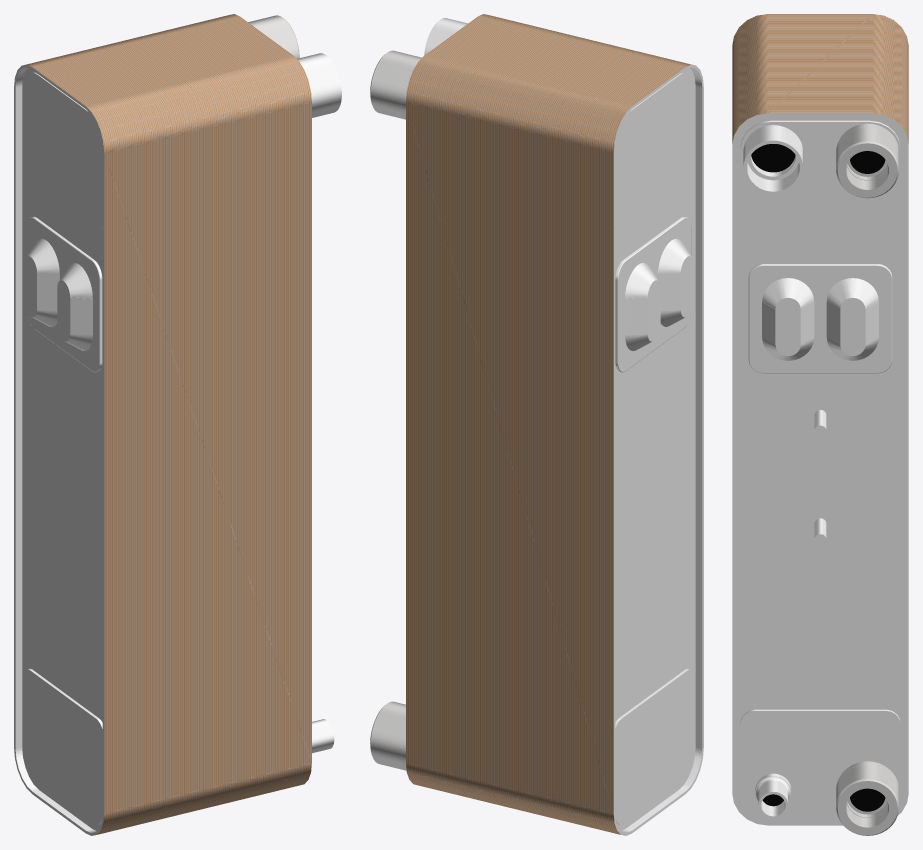
Rendered from MPHE Heat Exchanger.glb.
3 renders of one model, left to right at view 1: azimuth 30°, elevation 25°; view 2: azimuth 150°, elevation 25°; view 3: azimuth 270°, elevation 25°, orthographic. The views are drawn at different scales.
Visible parts, largest first — view 1: Solid1.006, Solid1.005, Solid1.001, Solid1.002, Solid1; view 2: Solid1.006, Solid1.005, Solid1.002, Solid1.003, Solid1.001; view 3: Solid1.006, Solid1.004, Solid1.002, Solid1.003, Solid1.001, Solid1, pCylinder2, pCylinder3, pCylinder1.
Part boxes in pixels (x1,y1,x2,y2): Solid1.006: (14,14,311,835); Solid1.005: (24,216,102,372); Solid1.001: (297,53,341,117); Solid1.002: (248,15,299,58); Solid1: (312,719,334,753); Solid1.006: (406,14,703,835); Solid1.005: (615,216,693,372); Solid1.002: (370,50,421,119); Solid1.003: (370,701,406,770); Solid1.001: (424,18,467,55); Solid1.006: (732,14,908,825); Solid1.004: (748,264,892,373); Solid1.002: (836,123,898,198); Solid1.003: (836,761,898,835); Solid1.001: (743,125,803,194); Solid1: (755,773,791,818); pCylinder2: (751,144,795,172); pCylinder3: (850,788,885,811); pCylinder1: (850,151,885,173).
Bounding box in the file's own units: 0.1974 × 0.525 × 0.118.
4 materials, 1 textured.
